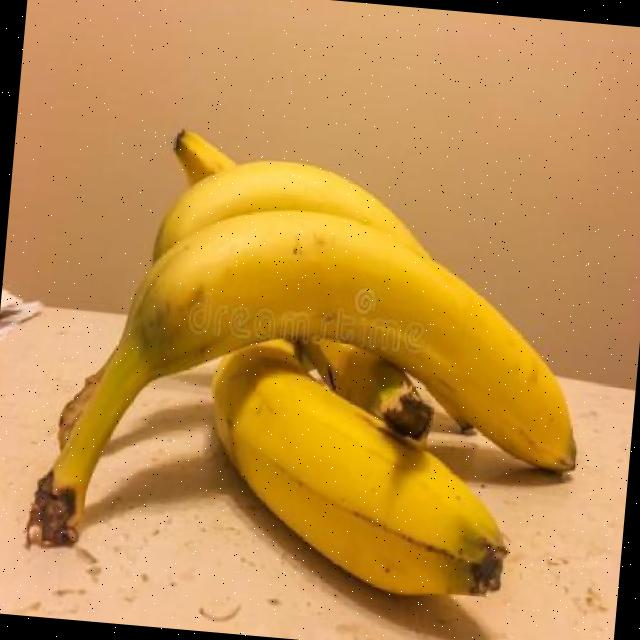banana: (24, 130, 578, 596)
